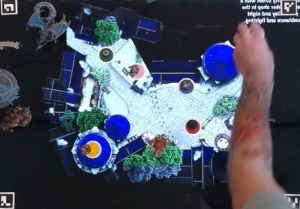green: (97, 45, 117, 66)
pink: (129, 62, 146, 80)
red: (186, 117, 203, 135)
violet: (176, 75, 197, 97)
yellow: (82, 138, 104, 159)
